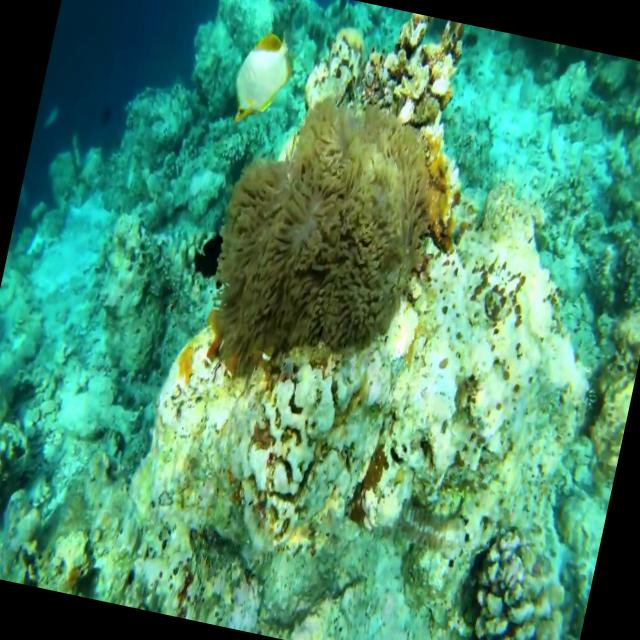fish: (222, 18, 304, 146)
